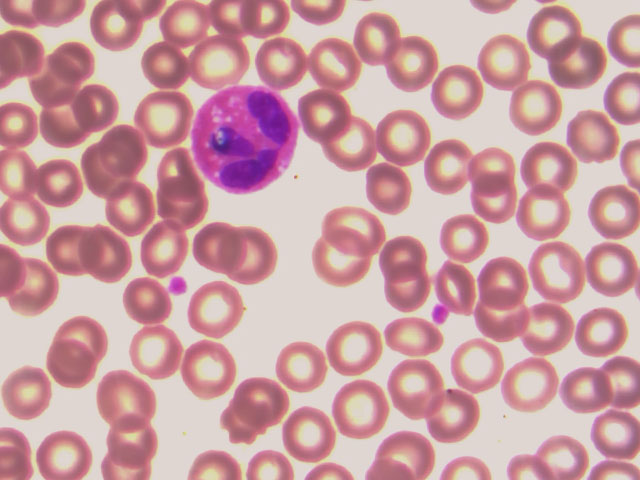Platelets: (166, 273, 193, 300), (428, 303, 450, 327)
RBC: (374, 109, 432, 169), (135, 36, 193, 96), (136, 89, 194, 149), (99, 119, 157, 179), (80, 141, 138, 201), (34, 156, 92, 216), (65, 76, 123, 136), (38, 94, 96, 154), (28, 44, 86, 104), (81, 226, 139, 286), (41, 218, 99, 278), (2, 257, 60, 317), (50, 298, 108, 358), (40, 337, 98, 397), (3, 357, 61, 417), (33, 420, 91, 480), (105, 408, 163, 468), (99, 368, 157, 428), (125, 320, 183, 380), (114, 274, 172, 334), (129, 216, 187, 276), (156, 181, 214, 241), (101, 181, 159, 241), (229, 226, 287, 286), (188, 217, 246, 277), (188, 282, 246, 342), (178, 338, 236, 398), (234, 374, 292, 434), (263, 342, 321, 402), (323, 318, 381, 378), (384, 312, 442, 372), (374, 269, 432, 329), (374, 228, 432, 288), (326, 200, 384, 260), (311, 235, 369, 295), (354, 160, 412, 220), (326, 121, 384, 181), (298, 91, 356, 151), (305, 44, 363, 104), (256, 34, 314, 94), (192, 36, 250, 96), (90, 1, 148, 60), (529, 242, 583, 299), (586, 235, 640, 292), (586, 181, 640, 238), (570, 109, 624, 166), (551, 35, 605, 92), (527, 4, 581, 61), (572, 303, 626, 360), (555, 365, 609, 422), (586, 352, 640, 409), (502, 357, 556, 414), (450, 338, 504, 395), (428, 389, 482, 446), (390, 361, 444, 418), (336, 378, 390, 435), (282, 404, 336, 461), (386, 423, 440, 480), (533, 423, 587, 480), (586, 404, 640, 461), (1, 193, 55, 250), (351, 15, 405, 65), (385, 38, 439, 88), (432, 64, 486, 114), (478, 35, 532, 85), (508, 80, 562, 130), (522, 142, 576, 192), (516, 190, 570, 240), (461, 182, 515, 232), (465, 142, 519, 192), (428, 141, 482, 191), (436, 211, 490, 261), (434, 259, 488, 309), (480, 254, 534, 304), (470, 295, 524, 345), (520, 304, 574, 354), (160, 1, 214, 50), (242, 1, 292, 37), (2, 148, 38, 196), (1, 104, 36, 152)
WBC: (192, 87, 300, 191)
